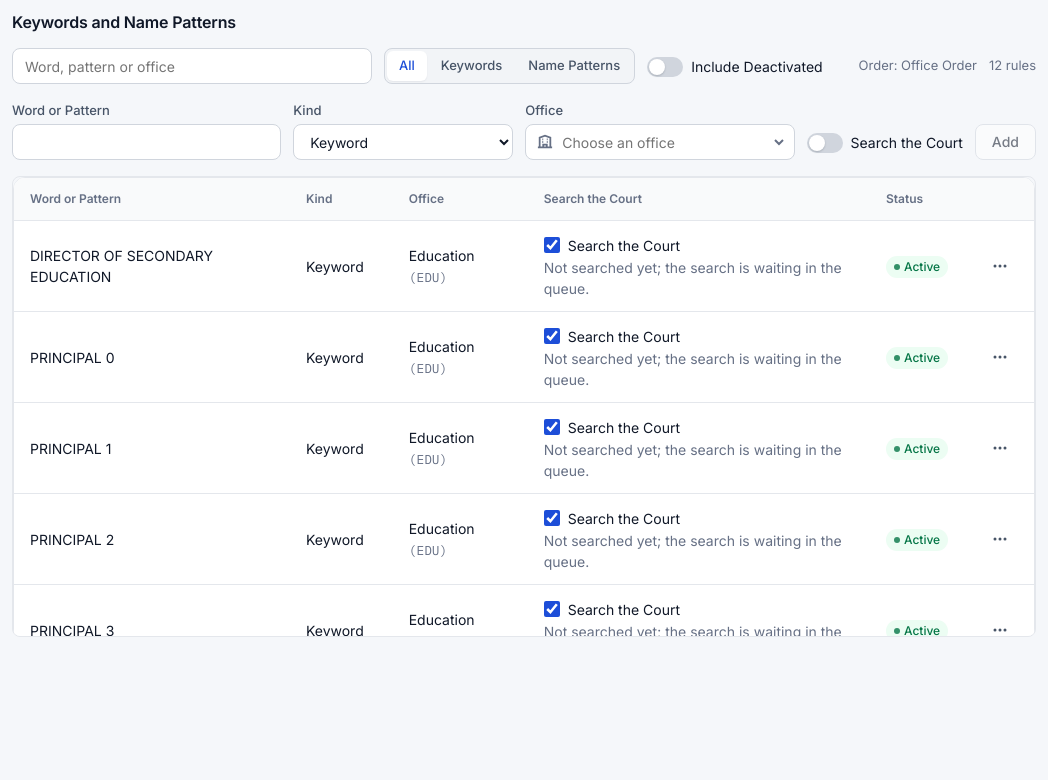
Test case: keywords and name patterns › one list with the kind, the All / Keywords / Name Patterns choice and a search over the words
Expected: the text "DIRECTOR OF SECONDARY EDUCATION" is shown, [30,247,213,285]
Step 1. Click the radio button labelled "Name Patterns" → (574, 66), box [516,51,632,81]
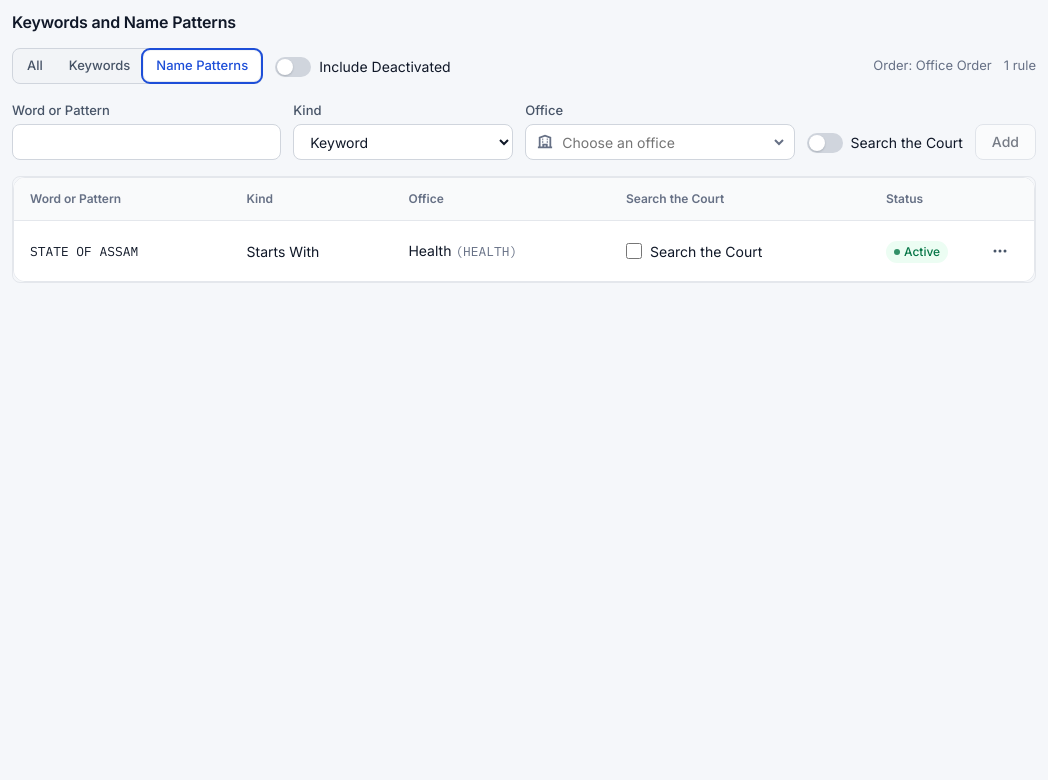
Result: the text "DIRECTOR OF SECONDARY EDUCATION" is gone
Step 2. Click the radio button labelled "All" → (35, 66), box [15,51,55,81]
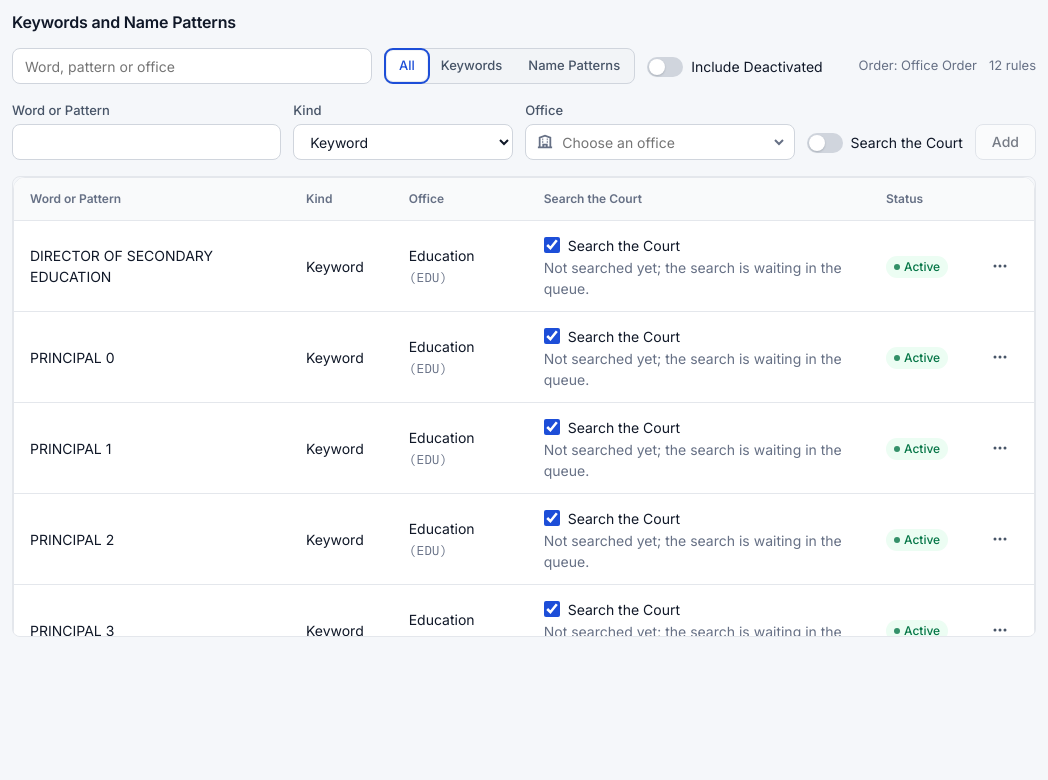
Step 3. Type "secondary" into the search field named "Search Words" → (192, 66), box [12,48,372,84]
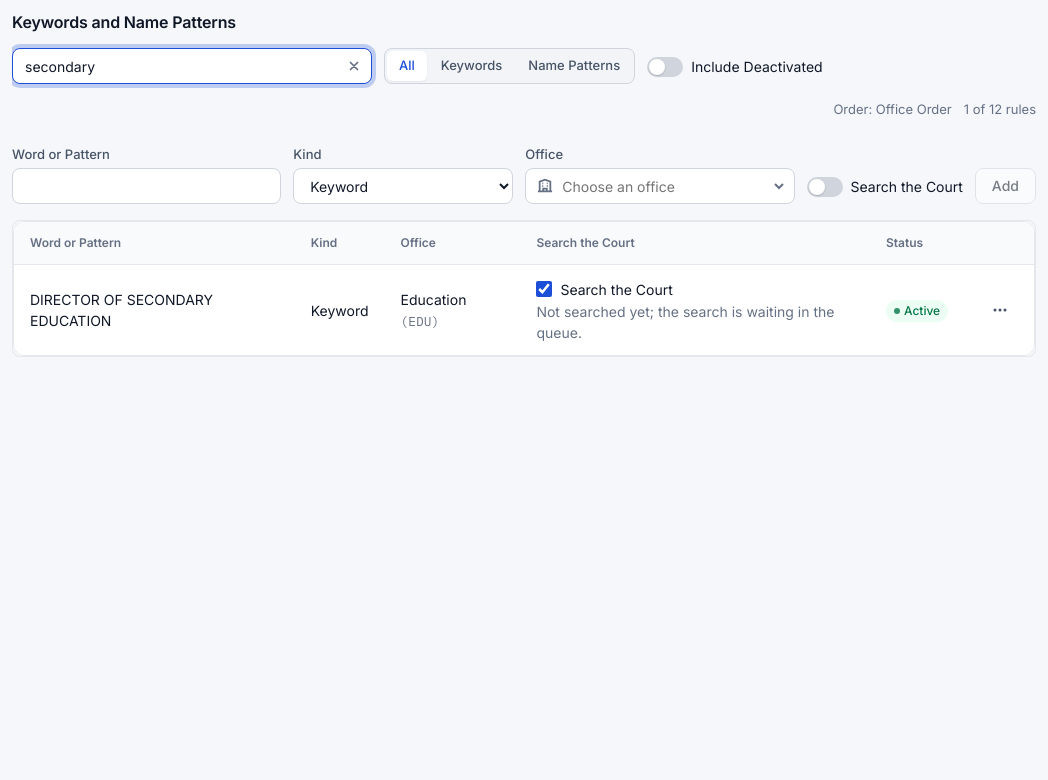
Expected: the text "STATE OF ASSAM" is not shown
Result: the text "DIRECTOR OF SECONDARY EDUCATION" is shown at [30,291,213,329]
Result: the text "1 of 12 rules" is shown at [964,100,1036,120]
